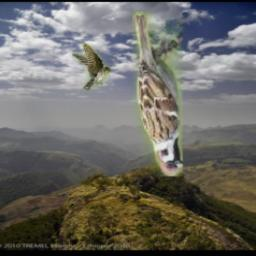Sparrow: (133, 12, 184, 176)
Swallow: (72, 44, 111, 91)
